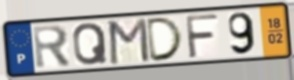9: (227, 11, 257, 57)
D: (145, 15, 186, 64)
F: (183, 12, 220, 60)
M: (107, 16, 152, 66)
Q: (72, 22, 110, 68)
R: (31, 23, 73, 71)
